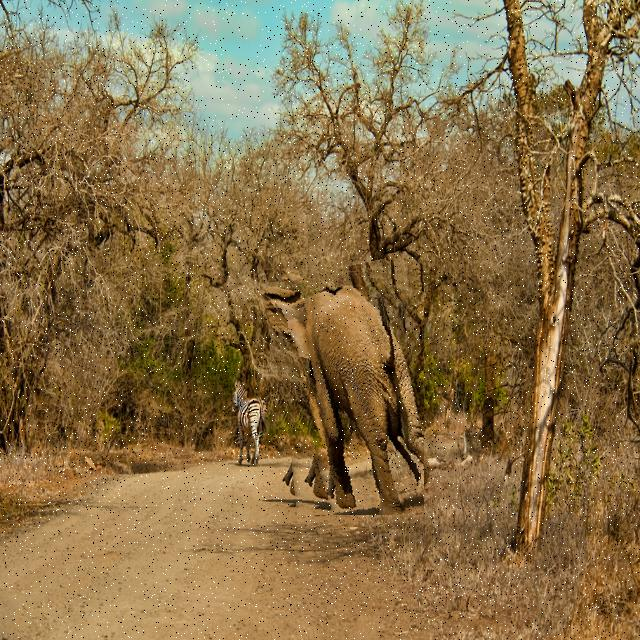elephant: (271, 264, 424, 515)
